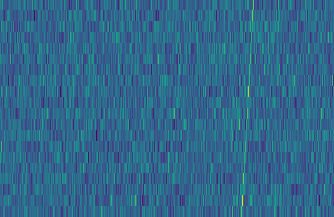signal: (238, 0, 259, 217)
